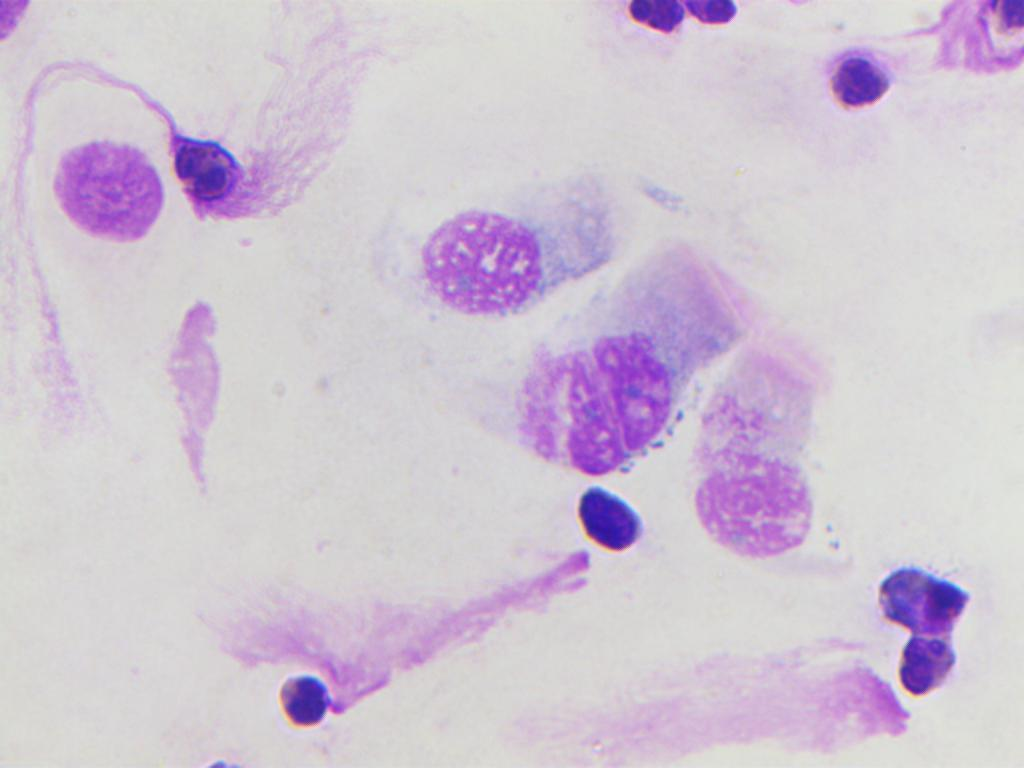ciliated: (520, 236, 751, 487), (397, 160, 683, 324), (695, 327, 829, 558)
epithelial: (44, 141, 170, 252)
neutrophil: (883, 530, 965, 716), (569, 490, 665, 568), (825, 44, 903, 128), (619, 0, 759, 46), (167, 116, 236, 208), (271, 678, 333, 738)
